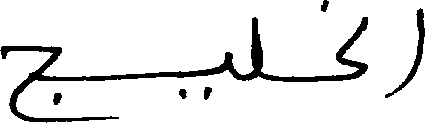ا: (387, 5, 424, 98)
ج: (0, 44, 60, 121)
ل: (311, 0, 362, 80), (332, 15, 368, 59), (249, 15, 267, 80)
ي: (179, 49, 233, 101)
